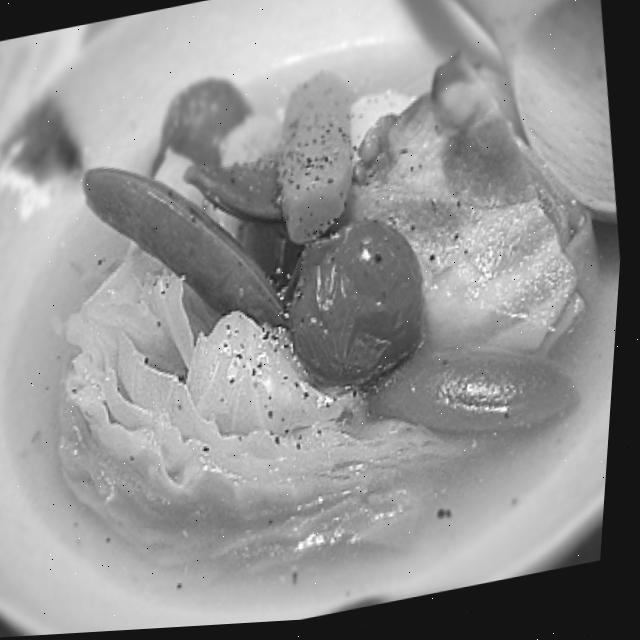汤锅炖物: (0, 0, 640, 620)
